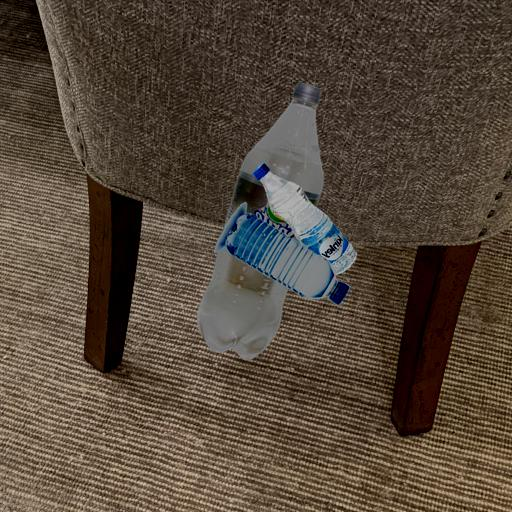bottle: (192, 73, 332, 361), (214, 209, 352, 304), (254, 156, 362, 276)
